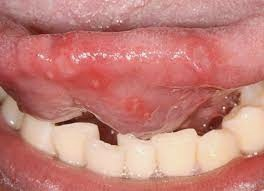Ulcer: (126, 94, 145, 118), (84, 75, 107, 92)
